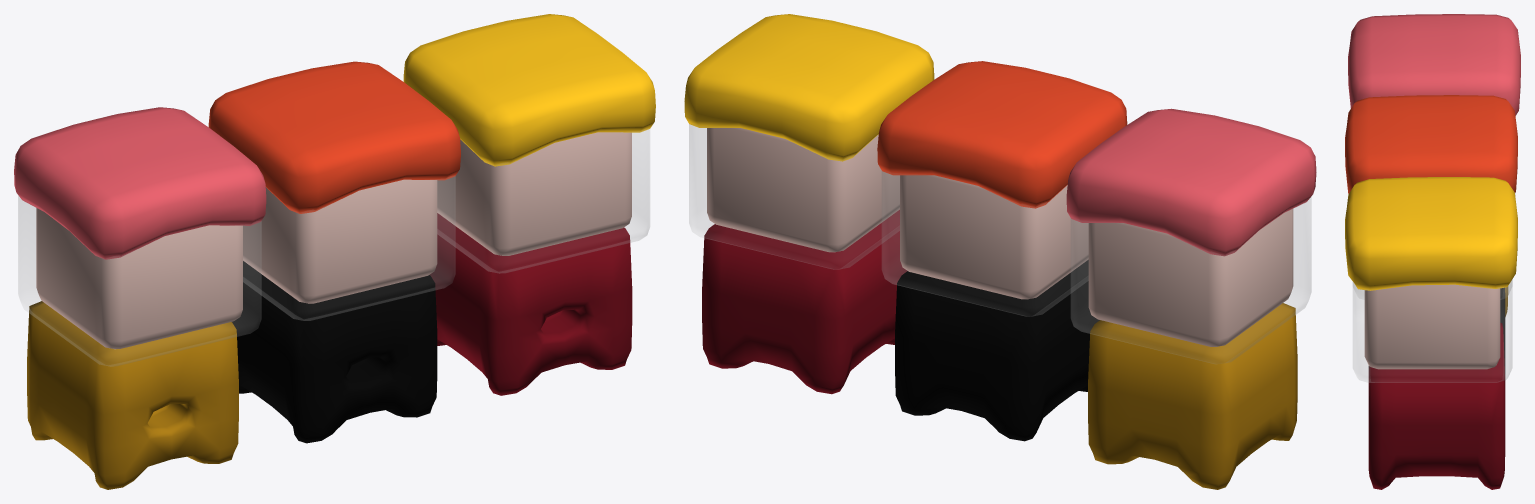
Rendered from Bubble_Storage.fbx.
3 views of the same model, side by side, from view 1: azimuth 30°, elevation 25°; view 2: azimuth 150°, elevation 25°; view 3: azimuth 270°, elevation 25° (orthographic). The views are drawn at different scales.
Parts seen in each view (by area): view 1: Cube.066, Cube.069, Cube.072; view 2: Cube.066, Cube.072, Cube.069; view 3: Cube.072, Cube.069, Cube.066.
Part boxes in pixels (bbox=[...]): Cube.066: bbox=[14, 107, 266, 489]; Cube.069: bbox=[208, 61, 460, 443]; Cube.072: bbox=[403, 14, 655, 395]; Cube.066: bbox=[1066, 108, 1316, 489]; Cube.072: bbox=[684, 14, 934, 394]; Cube.069: bbox=[877, 61, 1127, 441]; Cube.072: bbox=[1345, 177, 1517, 489]; Cube.069: bbox=[1345, 95, 1517, 373]; Cube.066: bbox=[1348, 14, 1520, 316].
Size of the model in its own units: 142 by 72.53 by 44.54.
